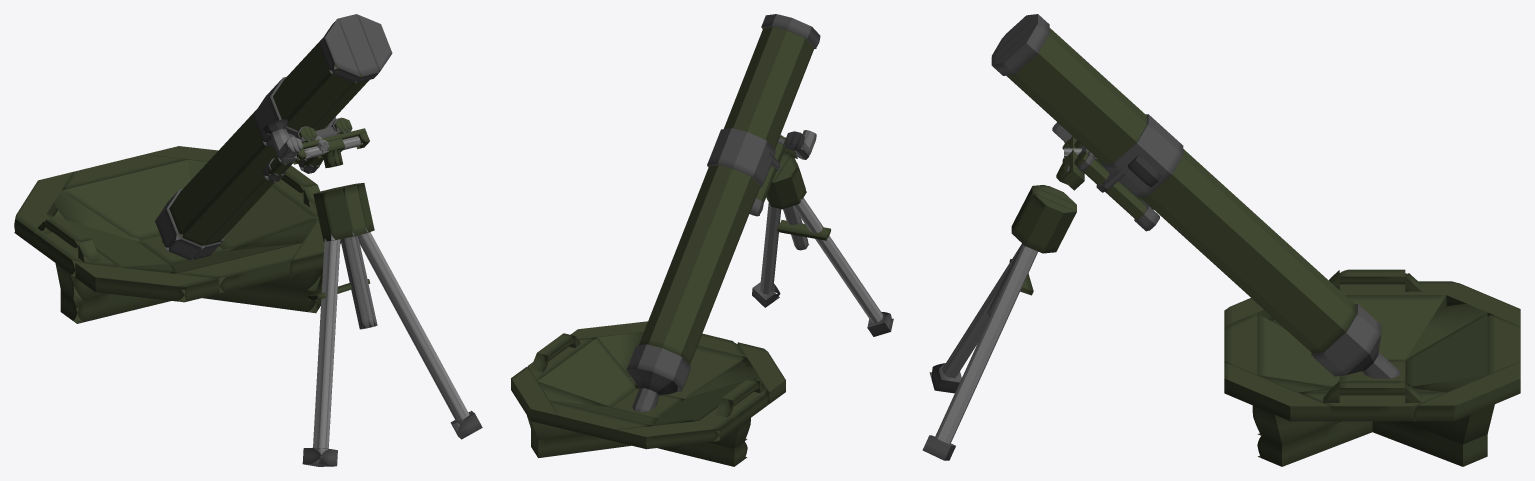
File: mortargun.obj
3 renders of one model, left to right at view 1: azimuth 30°, elevation 25°; view 2: azimuth 150°, elevation 25°; view 3: azimuth 270°, elevation 25°, orthographic. The views are drawn at different scales.
Parts seen in each view (by area): view 1: baseModel36, baseModel18, baseModel9, baseModel16, baseModel11, baseModel91, baseModel1, baseModel0, baseModel8, baseModel14, baseModel7, baseModel37 (+27 smaller); view 2: baseModel36, baseModel37, baseModel16, baseModel29, baseModel8, baseModel7, baseModel17, baseModel6, baseModel2, baseModel44, baseModel9, baseModel14 (+28 smaller); view 3: baseModel29, baseModel18, baseModel95, baseModel14, baseModel17, baseModel10, baseModel6, baseModel37, baseModel2, baseModel12, baseModel30, baseModel1 (+16 smaller).
Boxes of the visible parts, x1,y1,x2,y2 form: baseModel36: (169,38,352,245); baseModel18: (61,159,189,241); baseModel9: (75,262,219,302); baseModel16: (219,186,316,250); baseModel11: (176,243,301,293); baseModel91: (313,233,336,455); baseModel1: (202,276,322,313); baseModel0: (60,287,170,323); baseModel8: (14,172,72,247); baseModel14: (47,214,169,273); baseModel7: (63,154,186,189); baseModel37: (203,71,369,245); baseModel36: (662,30,814,364); baseModel37: (648,27,786,347); baseModel16: (538,337,636,407); baseModel29: (639,27,772,345); baseModel8: (617,416,735,449); baseModel7: (550,400,648,441); baseModel17: (643,332,747,400); baseModel6: (511,367,559,427); baseModel2: (531,429,630,457); baseModel44: (733,132,775,187); baseModel9: (737,342,785,403); baseModel14: (659,378,756,422); baseModel29: (1006,35,1356,353); baseModel18: (1405,312,1487,389); baseModel95: (935,244,1037,443); baseModel14: (1345,295,1446,359); baseModel17: (1257,315,1339,388); baseModel10: (1224,362,1331,421); baseModel6: (1413,361,1520,421); baseModel37: (1049,28,1356,353); baseModel2: (1372,421,1487,466); baseModel12: (1304,392,1445,421); baseModel30: (1012,194,1076,253); baseModel1: (1257,421,1372,466).
Bounding box in the file's own units: 18 × 27.43 × 36.36.
